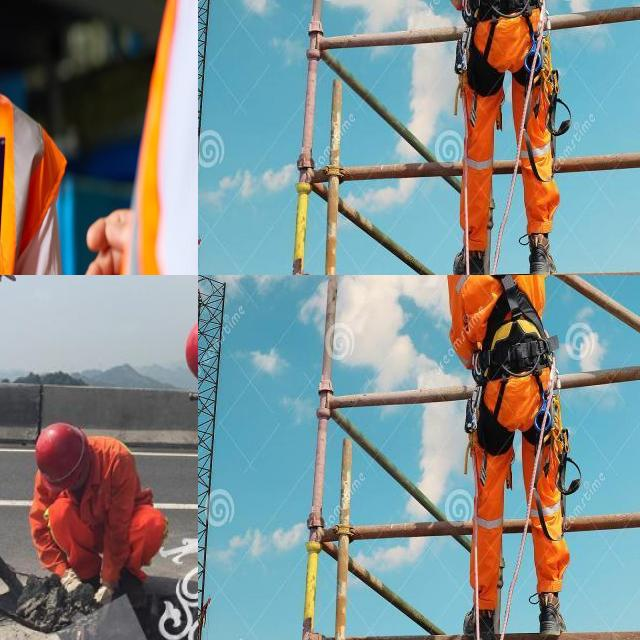Harness: (474, 275, 557, 384)
hand_noglove: (81, 195, 150, 275)
head_helmet: (24, 420, 94, 475), (176, 308, 198, 390)
person: (51, 0, 198, 275), (37, 392, 157, 598), (0, 0, 44, 275)
vest: (0, 57, 53, 275)
